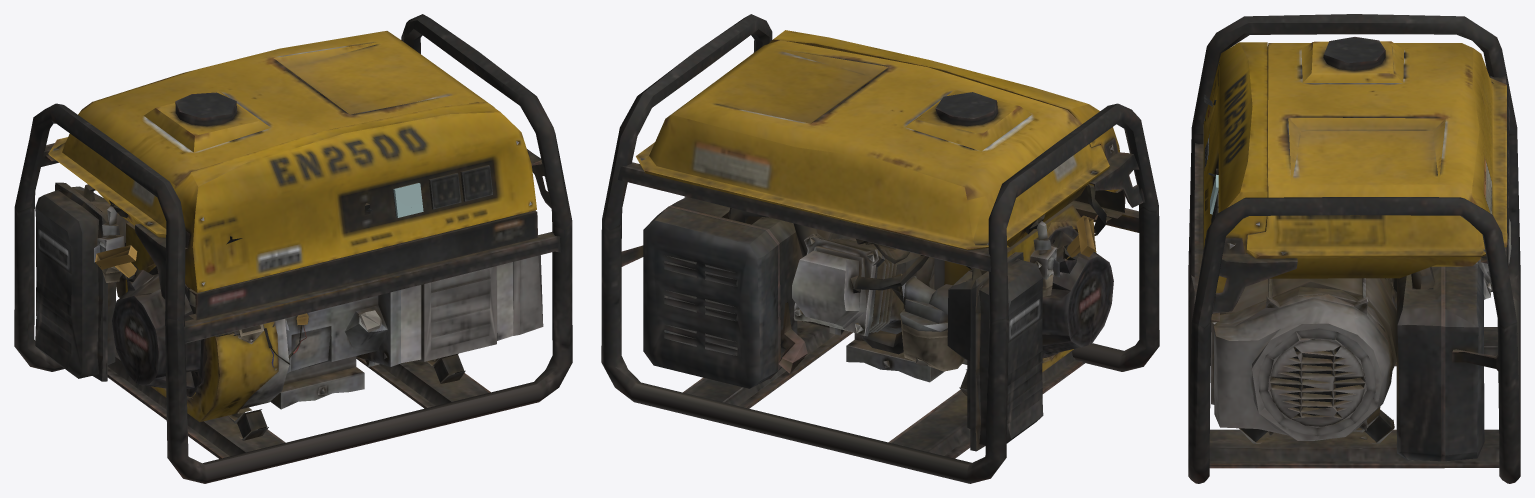
File: portable_generator.fbx
3 views of the same model, side by side, from view 1: azimuth 30°, elevation 25°; view 2: azimuth 150°, elevation 25°; view 3: azimuth 270°, elevation 25° (orthographic).
Parts seen in each view (by area): view 1: portable_generator; view 2: portable_generator; view 3: portable_generator.
Boxes of the visible parts, <box> form: portable_generator: <box>14,14,572,483</box>; portable_generator: <box>601,14,1159,483</box>; portable_generator: <box>1188,14,1520,483</box>.
Size of the model in its own units: 0.8153 by 0.5765 by 0.564.
